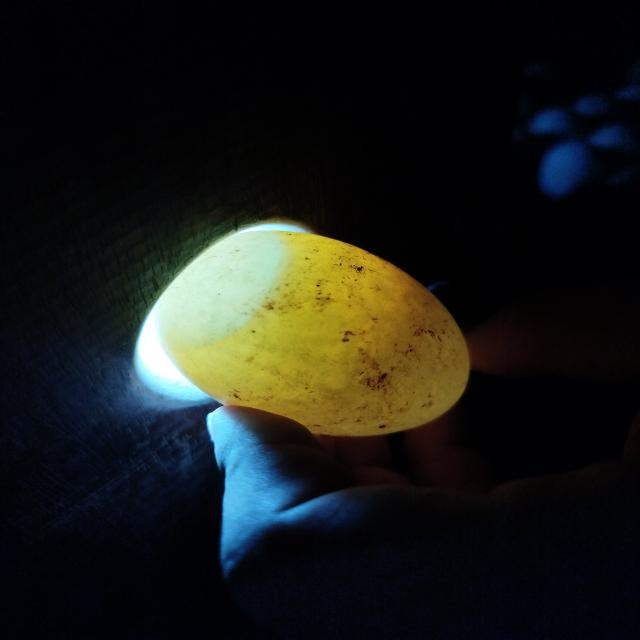Camara de Ar: (153, 231, 284, 348)
